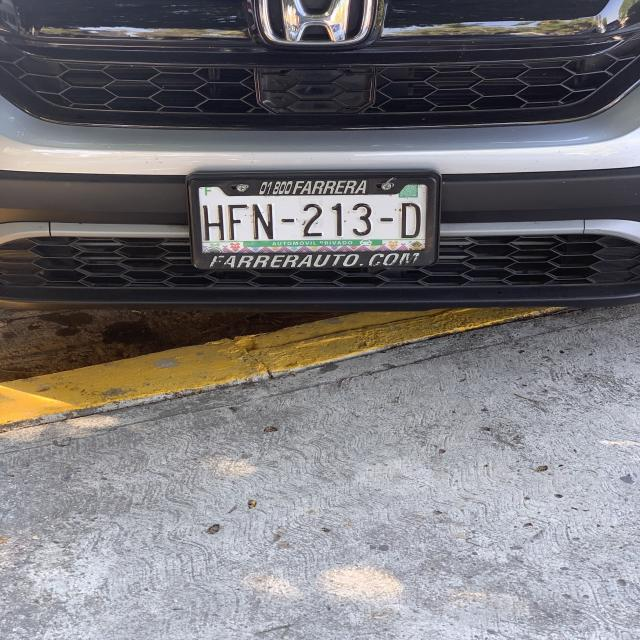placa: (194, 200, 430, 241)
